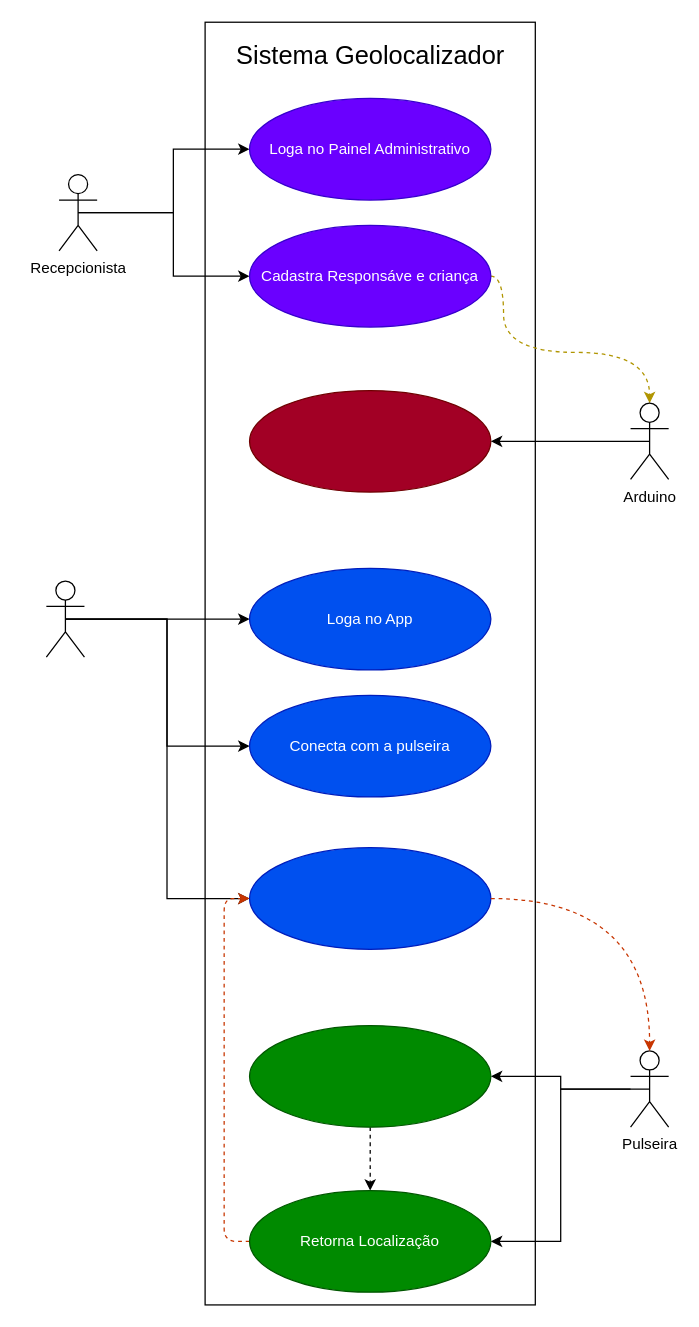
The diagram is 699 pixels wide and 1327 high, and some of its shapes have lost their labels. Each missing label, with the centre of its shape:
"Busca Localização" belongs at pixel 369 897.
"Consulta localização" belongs at pixel 369 1075.
"Escreve dados (ID) na pulseia" belongs at pixel 369 440.
"Responsável" belongs at pixel 64 618.
